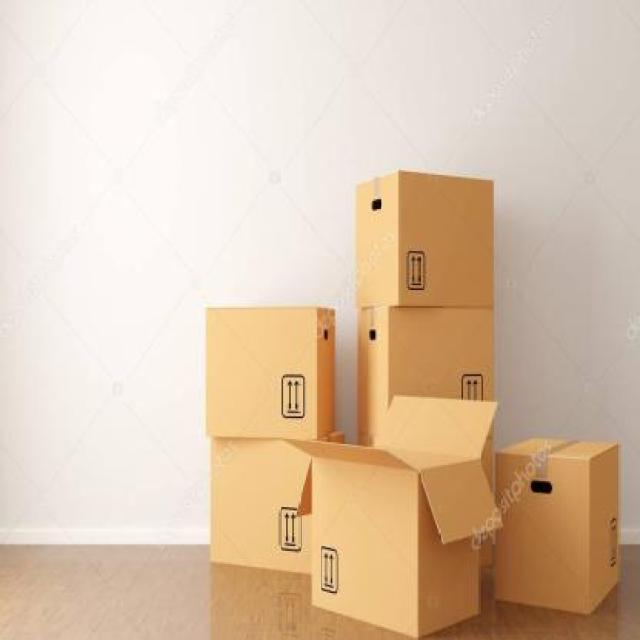box: (285, 379, 506, 640), (493, 424, 634, 640), (178, 413, 329, 587), (194, 278, 344, 446), (343, 163, 508, 313), (351, 295, 500, 458)
